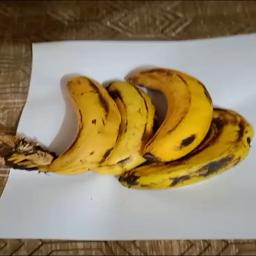Banana Semifresh: (17, 71, 256, 179)
